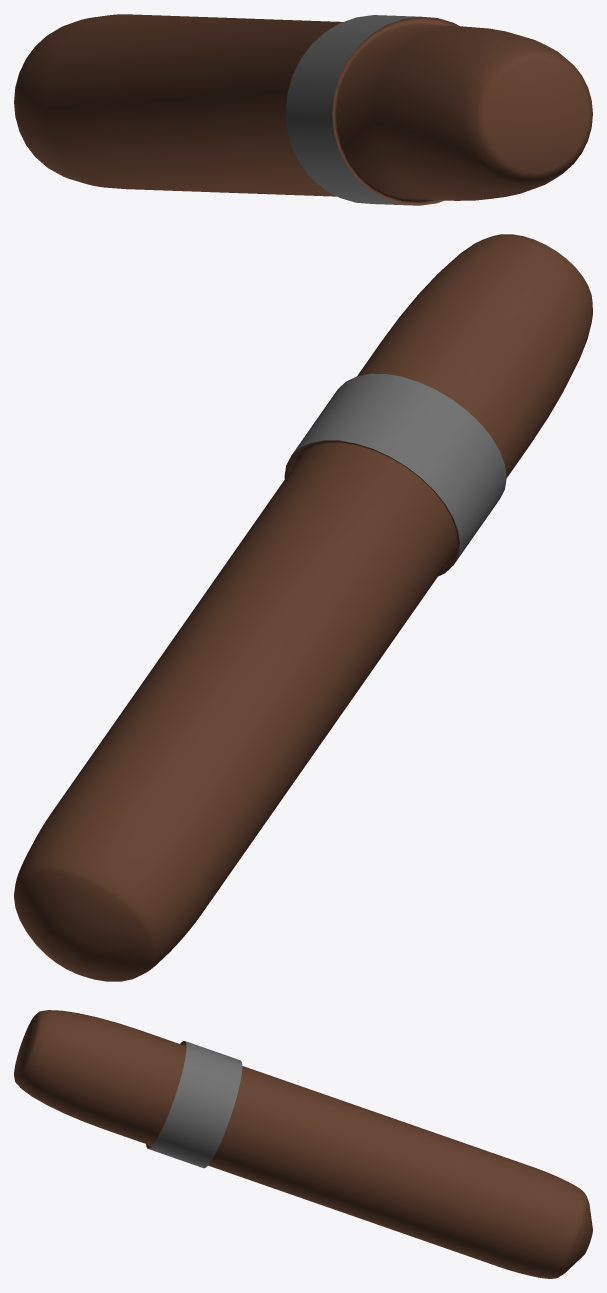
Rendered from Cigar.fbx.
The picture shows the model from 3 angles, top to bottom: view 1: azimuth 30°, elevation 25°; view 2: azimuth 150°, elevation 25°; view 3: azimuth 270°, elevation 25°; orthographic projection. The views are drawn at different scales.
Visible parts, largest first — view 1: Cigar, Cigar.001; view 2: Cigar, Cigar.001; view 3: Cigar, Cigar.001.
Boxes of the visible parts, bbox=[...] form: Cigar: bbox=[14, 14, 592, 205]; Cigar.001: bbox=[285, 15, 418, 205]; Cigar: bbox=[14, 234, 592, 981]; Cigar.001: bbox=[291, 373, 506, 564]; Cigar: bbox=[14, 1010, 592, 1278]; Cigar.001: bbox=[148, 1041, 242, 1168].
Size of the model in its own units: 0.2168 by 0.5202 by 1.05.
